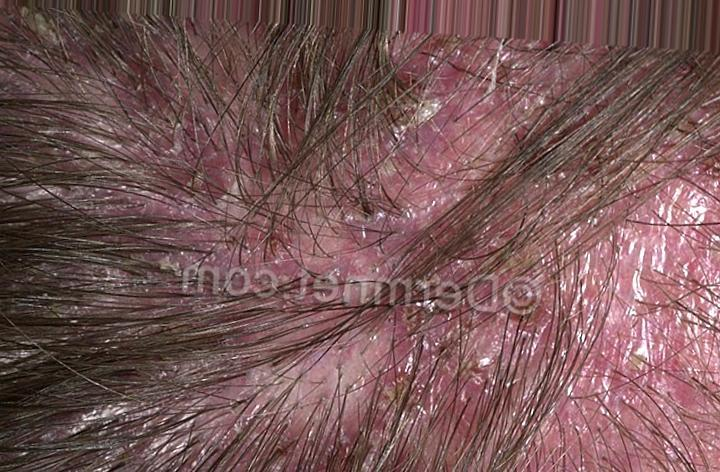Folliculitis: (321, 59, 656, 253)
